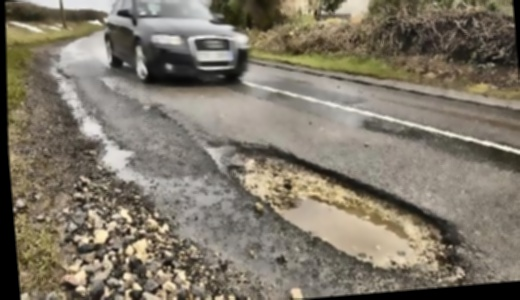pothole: (196, 119, 469, 290)
